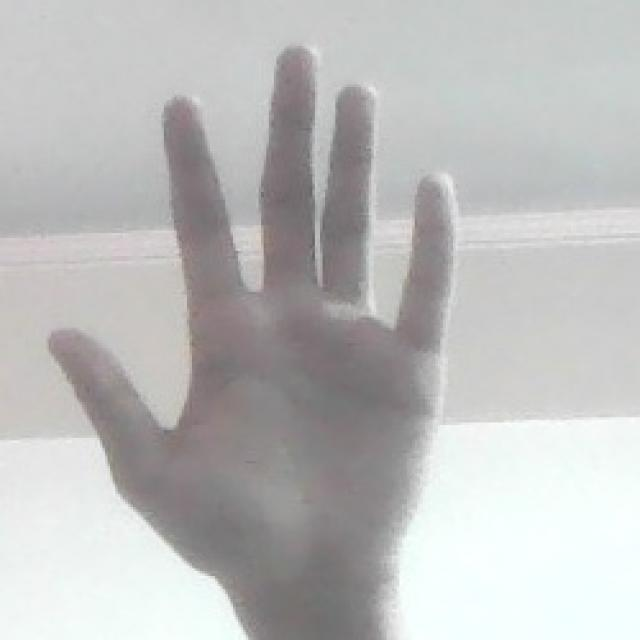Numeric-5: (48, 37, 456, 587)
